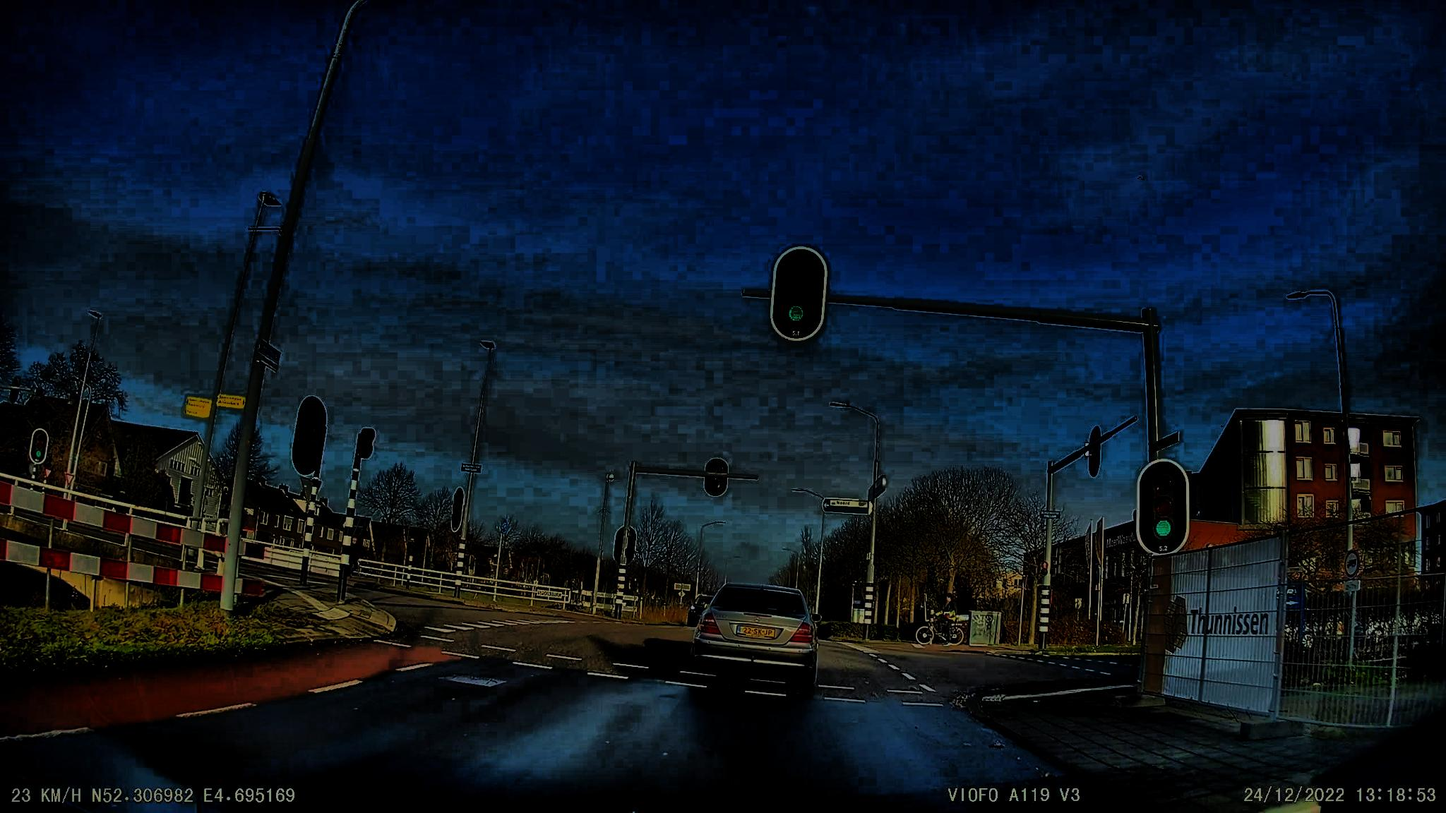Roads: (0, 590, 1146, 813)
